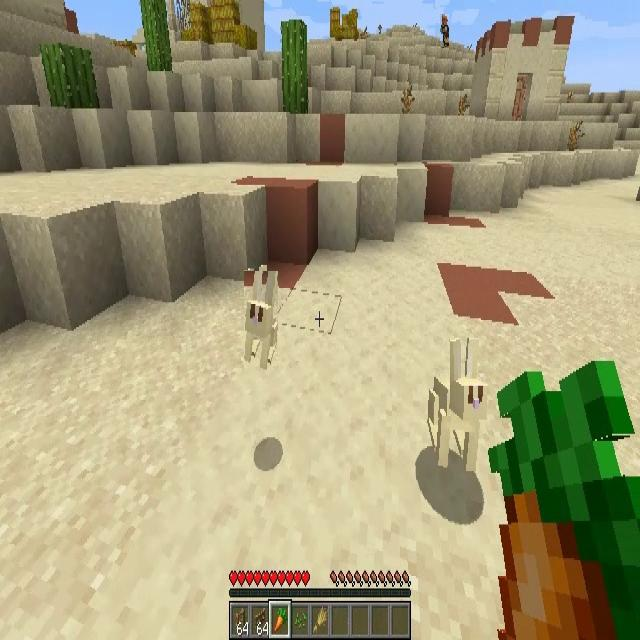people: (440, 14, 449, 47)
rabbit: (428, 339, 486, 479), (244, 271, 278, 371)
